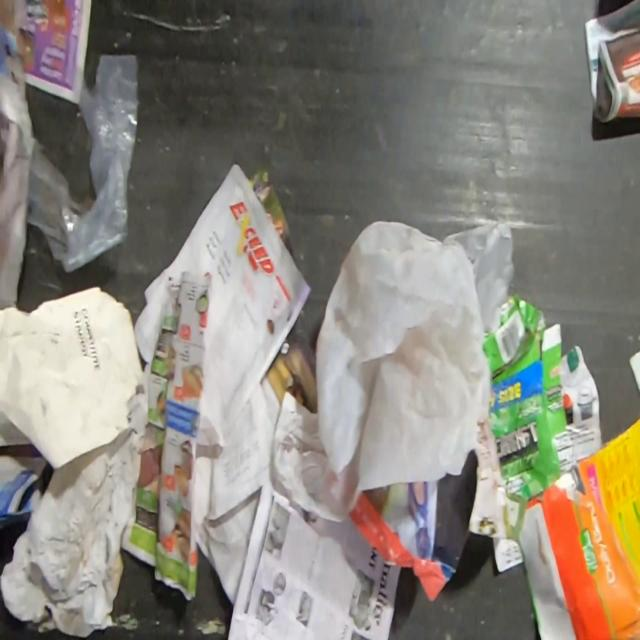cardboard: (517, 414, 639, 639), (483, 291, 568, 500)
soft_plastic: (270, 217, 516, 525), (27, 52, 140, 274)
